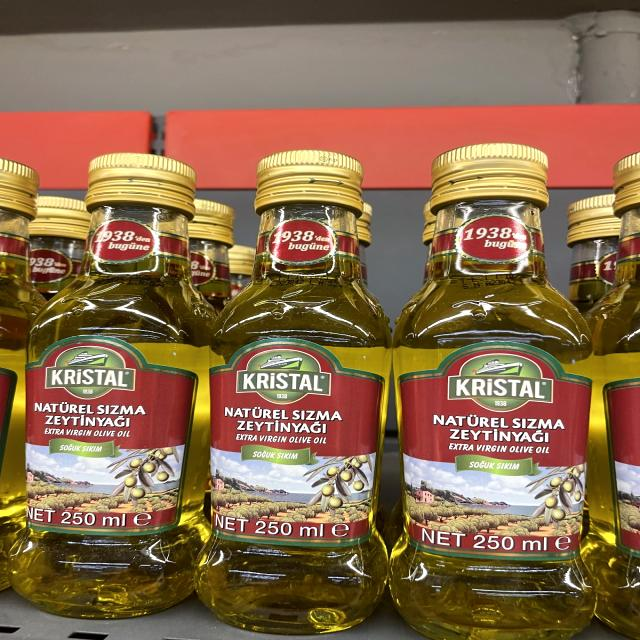olive oil: (196, 155, 404, 623), (7, 159, 208, 614), (402, 141, 578, 636)
